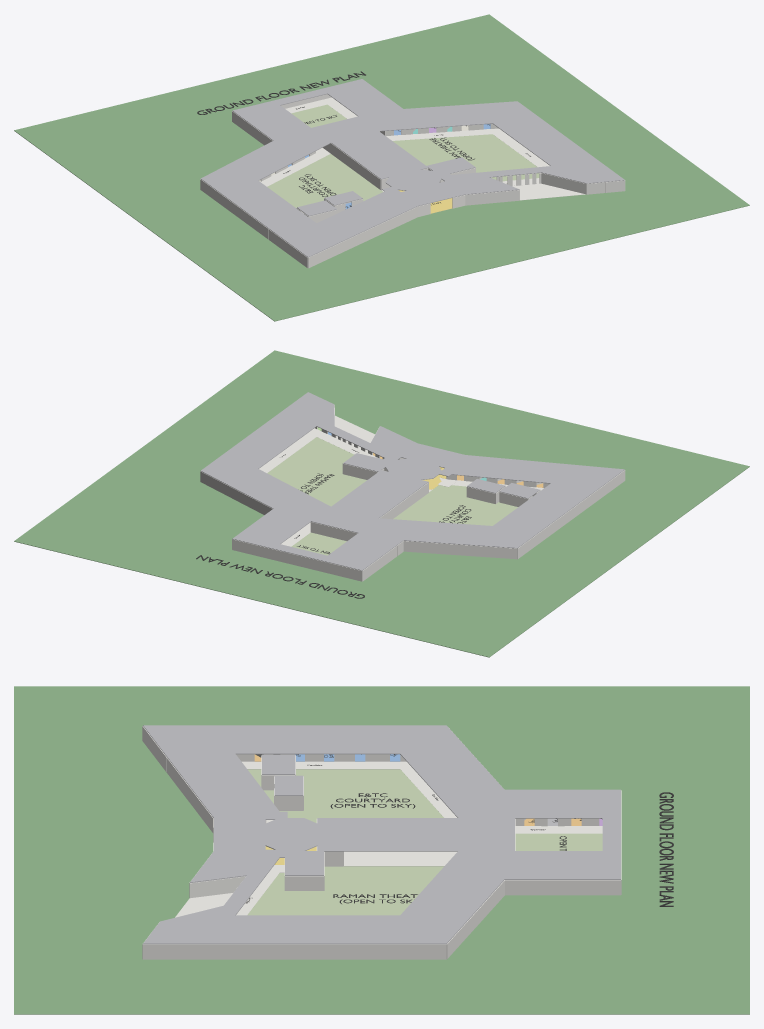
The model's file is campus_ground_floor_edited__1_.glb.
3 views of the same model, one above another, from view 1: azimuth 30°, elevation 25°; view 2: azimuth 150°, elevation 25°; view 3: azimuth 270°, elevation 25° (orthographic). The views are drawn at different scales.
Parts seen in each view (by area): view 1: Ground, Walls, Courtyard_RAMAN THEATRE (OPEN, Courtyard_E&TC COURTYARD (OPEN, CorridorRoof_11, Roof_Main Entry, Roof_Thermal Engg Lab II, Roof_Reception, CorridorRoof_3, CorridorRoof_2, CorridorRoof_6, Courtyard_OPEN TO SKY (+13 smaller); view 2: Ground, Walls, Courtyard_RAMAN THEATRE (OPEN, Courtyard_E&TC COURTYARD (OPEN, CorridorRoof_11, Roof_Main Entry, Roof_Thermal Engg Lab II, Roof_Reception, CorridorRoof_3, CorridorRoof_6, CorridorRoof_5, CorridorRoof_4 (+10 smaller); view 3: Ground, Walls, Courtyard_RAMAN THEATRE (OPEN, Courtyard_E&TC COURTYARD (OPEN, CorridorRoof_11, Roof_Thermal Engg Lab II, Corridor_11, Roof_Main Entry, CorridorRoof_6, Roof_Reception, Courtyard_OPEN TO SKY, CorridorRoof_3 (+47 smaller).
Boxes of the visible parts, x1,y1,x2,y2 form: Ground: (14, 14, 749, 321); Walls: (200, 94, 625, 268); Courtyard_RAMAN THEATRE (OPEN: (393, 134, 539, 181); Courtyard_E&TC COURTYARD (OPEN: (267, 154, 382, 208); CorridorRoof_11: (338, 121, 428, 174); Roof_Main Entry: (400, 181, 465, 206); Roof_Thermal Engg Lab II: (499, 101, 550, 133); Roof_Reception: (385, 169, 441, 190); CorridorRoof_3: (492, 117, 570, 169); CorridorRoof_2: (379, 117, 498, 131); CorridorRoof_6: (243, 180, 316, 231); Courtyard_OPEN TO SKY: (291, 104, 346, 127); Ground: (14, 350, 749, 657); Walls: (200, 405, 625, 581); Courtyard_RAMAN THEATRE (OPEN: (267, 437, 366, 506); Courtyard_E&TC COURTYARD (OPEN: (393, 485, 517, 525); CorridorRoof_11: (319, 470, 408, 522); Roof_Main Entry: (400, 443, 464, 468); Roof_Thermal Engg Lab II: (201, 446, 264, 470); Roof_Reception: (385, 458, 441, 479); CorridorRoof_3: (243, 417, 316, 469); CorridorRoof_6: (493, 479, 570, 531); CorridorRoof_5: (442, 468, 570, 483); CorridorRoof_4: (314, 417, 398, 460); Ground: (14, 686, 749, 1014); Walls: (142, 726, 621, 959); Courtyard_RAMAN THEATRE (OPEN: (247, 866, 443, 915); Courtyard_E&TC COURTYARD (OPEN: (247, 769, 443, 822); CorridorRoof_11: (317, 831, 494, 851); Roof_Thermal Engg Lab II: (350, 923, 446, 944); Corridor_11: (343, 851, 457, 866); Roof_Main Entry: (214, 818, 265, 850); CorridorRoof_6: (211, 746, 412, 754); Roof_Reception: (265, 818, 317, 850); Courtyard_OPEN TO SKY: (515, 833, 602, 850); CorridorRoof_3: (211, 915, 412, 922).
Size of the model in its own units: 150 by 3.5 by 142.
